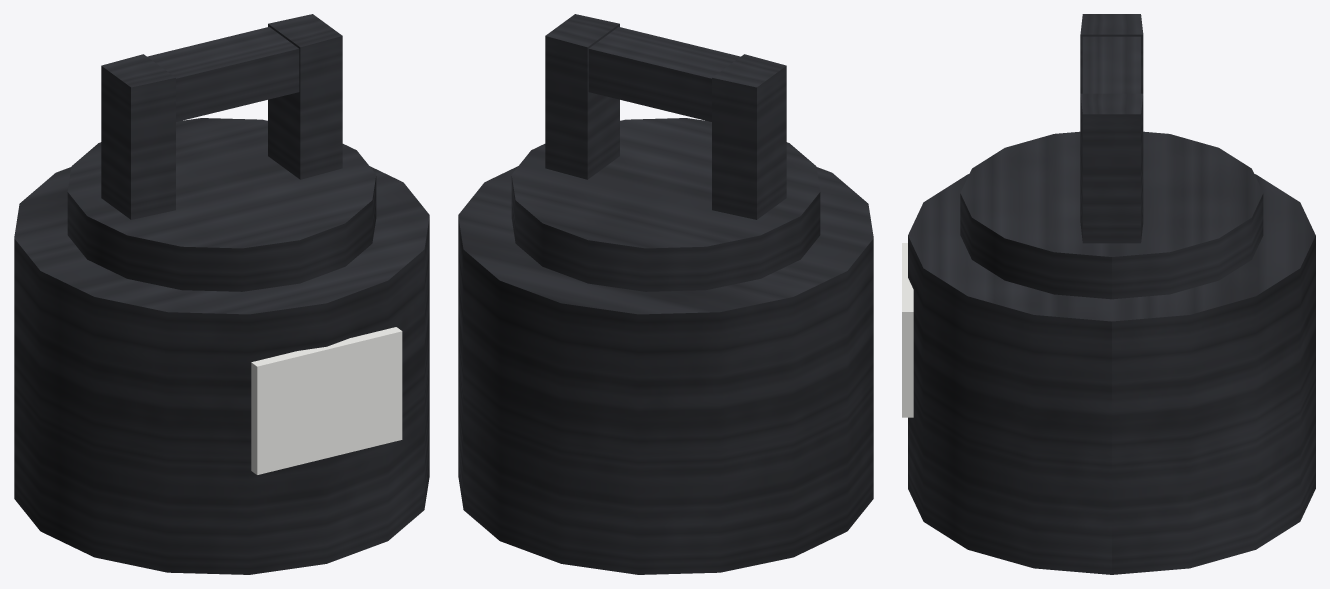
The model's file is Item_Weight.fbx.
3 views of the same model, side by side, from view 1: azimuth 30°, elevation 25°; view 2: azimuth 150°, elevation 25°; view 3: azimuth 270°, elevation 25° (orthographic). The views are drawn at different scales.
Parts seen in each view (by area): view 1: Item_Weight; view 2: Item_Weight; view 3: Item_Weight.
Part boxes in pixels (x1,y1,x2,y2): Item_Weight: [14, 14, 429, 574]; Item_Weight: [458, 14, 873, 574]; Item_Weight: [902, 14, 1315, 574].
Bounding box in the file's own units: 0.35 × 0.402 × 0.355.
Materials: 2 (1 with a texture image).
